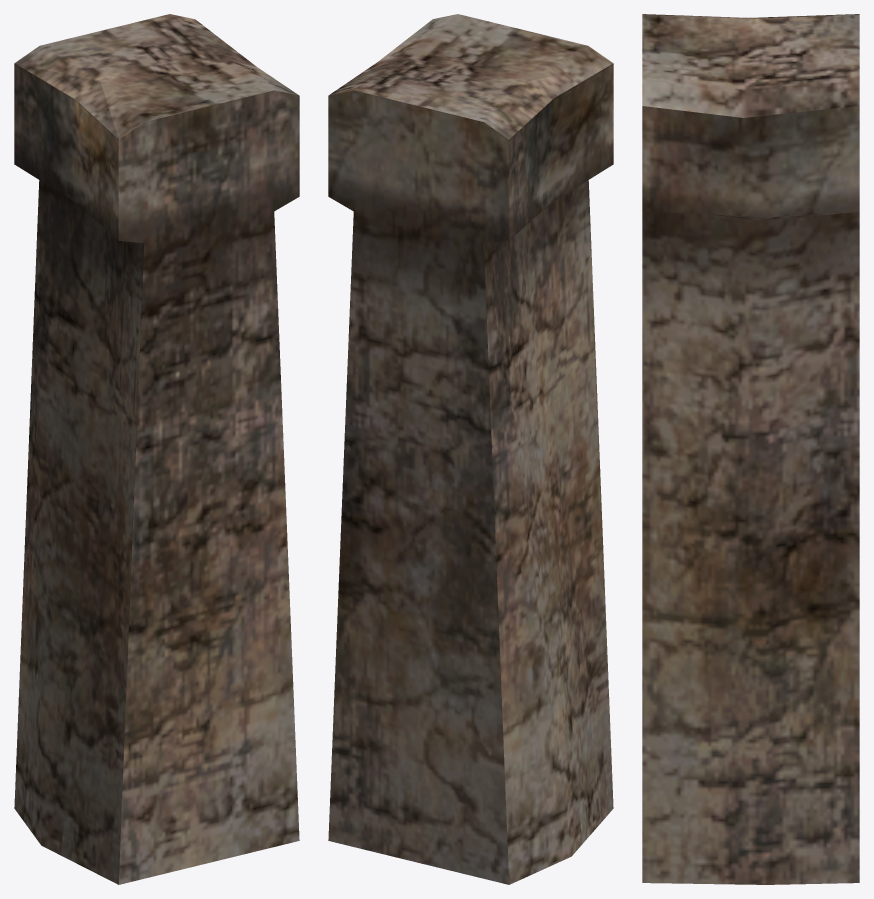
Rendered from MWalA3.glb.
3 renders of one model, left to right at view 1: azimuth 30°, elevation 25°; view 2: azimuth 150°, elevation 25°; view 3: azimuth 270°, elevation 25°, orthographic. The views are drawn at different scales.
Visible parts, largest first — view 1: _MWalA3; view 2: _MWalA3; view 3: _MWalA3.
Part boxes in pixels (x1,y1,x2,y2): _MWalA3: [14, 14, 299, 884]; _MWalA3: [328, 14, 613, 884]; _MWalA3: [642, 14, 859, 884].
Size of the model in its own units: 1.14 by 4 by 1.
1 material, 1 textured.
